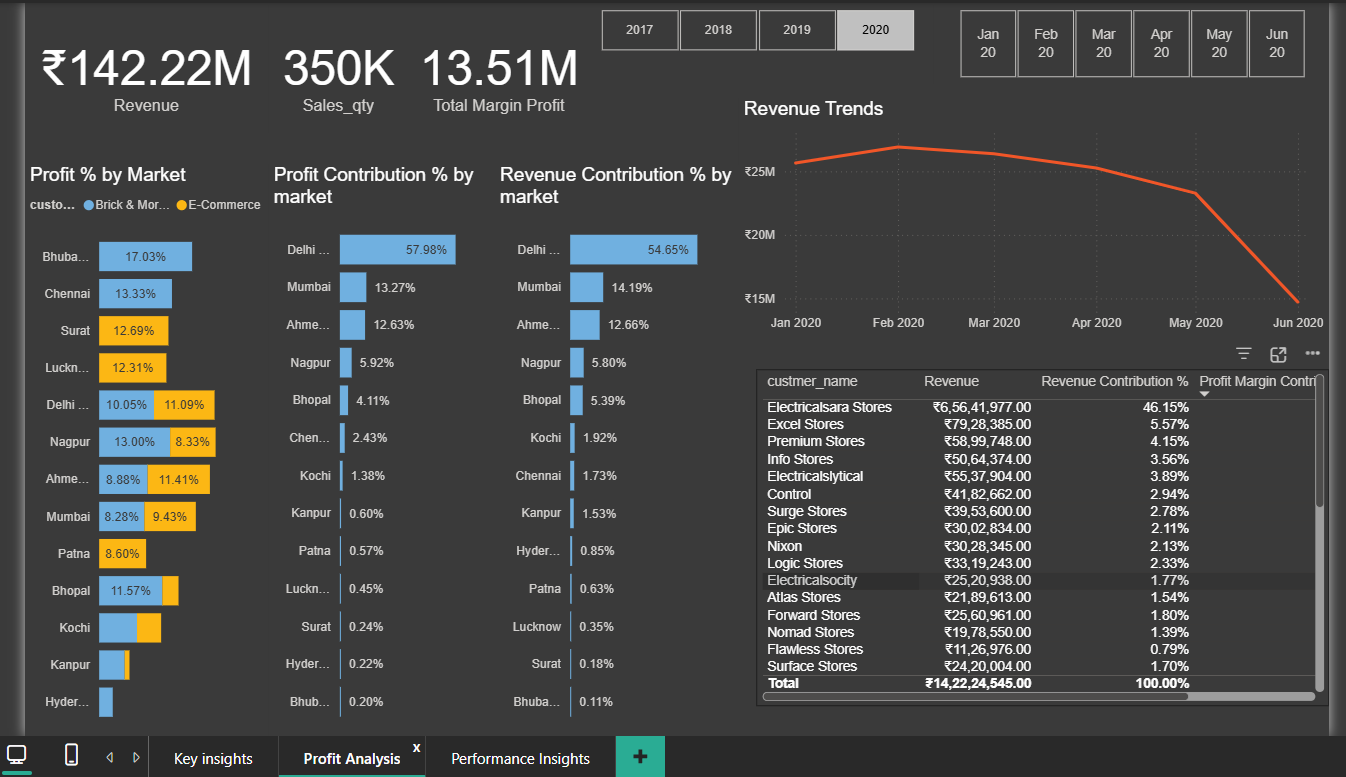

The page's visual inventory and layout, read from the dashboard file:
{"tool":"powerbi","page":{"name":"Profit Analysis","canvas":[1280,720],"ordinal":1},"visuals":[{"type":"card","fields":{"Values":["BaseMeasures.Revenue"]},"box":[0,0,238.8,140],"z":0},{"type":"barChart","title":"Profit % by Market","fields":{"Category":["sales markets.markets_name"],"Y":["BaseMeasures.Profit Margin %"],"Series":["sales customers.customer_type"]},"box":[0,157.8,238.8,562.6],"z":2000},{"type":"barChart","title":"Profit Contribution % by market","fields":{"Category":["sales markets.markets_name"],"Y":["BaseMeasures.Profit Margin Contribution %"]},"box":[238.8,157.8,226.4,562.6],"z":3000},{"type":"slicer","fields":{"Values":["sales date.year"]},"box":[539.3,0,356.8,53.5],"z":4000},{"type":"slicer","fields":{"Values":["sales date.cy_date"]},"box":[891.9,0,388.3,79.6],"z":5000},{"type":"tableEx","title":"Top 5 customers","fields":{"Values":["sales customers.custmer_name","BaseMeasures.Revenue","BaseMeasures.Revenue Contribution %","BaseMeasures.Profit Margin Contribution %","BaseMeasures.Profit Margin %"]},"box":[717.7,359.5,562.6,330.7],"z":6000},{"type":"lineChart","title":"Revenue Trends","fields":{"Y":["BaseMeasures.Revenue"],"Category":["sales date.cy_date"]},"box":[701.2,93.3,579.1,237.4],"z":7000},{"type":"card","fields":{"Values":["BaseMeasures.Sales_qty"]},"box":[238.8,0,137.2,140],"z":8000},{"type":"card","fields":{"Values":["BaseMeasures.Total Margin Profit"]},"box":[380.1,0,170.2,140],"z":9000},{"type":"barChart","title":"Revenue Contribution % by market","fields":{"Category":["sales markets.markets_name"],"Y":["BaseMeasures.Revenue Contribution %"]},"box":[461.1,157.8,244.3,562.6],"z":10000}]}

Visuals, with their boxes on the page's 1280x720 design canvas (x1, y1, x2, y2). These are canvas units, not pixel positions in the 1346x777 screenshot, which may show the page scaled, cropped or inside an application window:
card - BaseMeasures.Revenue: left=0, top=0, right=239, bottom=140
"Profit % by Market" barChart: left=0, top=158, right=239, bottom=720
"Profit Contribution % by market" barChart: left=239, top=158, right=465, bottom=720
slicer - sales date.year: left=539, top=0, right=896, bottom=54
slicer - sales date.cy_date: left=892, top=0, right=1280, bottom=80
"Top 5 customers" tableEx: left=718, top=360, right=1280, bottom=690
"Revenue Trends" lineChart: left=701, top=93, right=1280, bottom=331
card - BaseMeasures.Sales_qty: left=239, top=0, right=376, bottom=140
card - BaseMeasures.Total Margin Profit: left=380, top=0, right=550, bottom=140
"Revenue Contribution % by market" barChart: left=461, top=158, right=705, bottom=720
